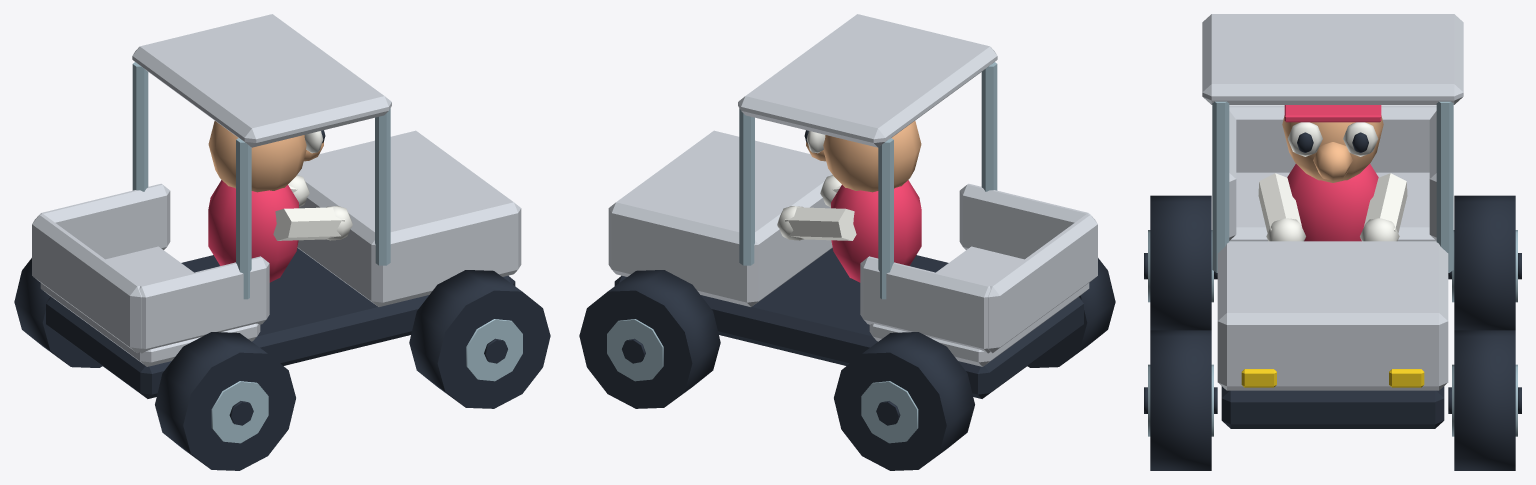
The model's file is kart_1.glb.
3 renders of one model, left to right at view 1: azimuth 30°, elevation 25°; view 2: azimuth 150°, elevation 25°; view 3: azimuth 270°, elevation 25°, orthographic. The views are drawn at different scales.
Parts seen in each view (by area): view 1: Truck hood, Cab roof, Chassis, wheel_fr, wheel_rr, Bed rail.001, Tailgate, Bed rail, Jacket, Head, Bed floor, wheel_rl (+4 smaller); view 2: Truck hood, Cab roof, Chassis, wheel_fl, wheel_rl, Bed rail, Tailgate, Bed rail.001, Jacket, Head, Bed floor, wheel_rr (+4 smaller); view 3: Truck hood, Cab roof, wheel_fl, wheel_fr, wheel_rl, wheel_rr, Chassis, Tailgate, Jacket, Bed floor, Cab pillar.003, Cab pillar (+13 smaller).
Part boxes in pixels (x1=…): Truck hood: x1=297, y1=130, x2=521, y2=306; Cab roof: x1=132, y1=14, x2=391, y2=147; Chassis: x1=46, y1=248, x2=515, y2=398; wheel_fr: x1=409, y1=270, x2=550, y2=408; wheel_rr: x1=155, y1=332, x2=295, y2=470; Bed rail.001: x1=139, y1=256, x2=269, y2=353; Tailgate: x1=32, y1=214, x2=141, y2=353; Bed rail: x1=40, y1=183, x2=170, y2=259; Jacket: x1=208, y1=180, x2=298, y2=282; Head: x1=208, y1=121, x2=306, y2=192; Bed floor: x1=40, y1=246, x2=260, y2=366; wheel_rl: x1=14, y1=258, x2=102, y2=367; Truck hood: x1=608, y1=130, x2=832, y2=306; Cab roof: x1=738, y1=14, x2=997, y2=147; Chassis: x1=614, y1=248, x2=1083, y2=398; wheel_fl: x1=579, y1=270, x2=720, y2=408; wheel_rl: x1=834, y1=332, x2=974, y2=470; Bed rail: x1=860, y1=256, x2=990, y2=353; Tailgate: x1=988, y1=214, x2=1097, y2=353; Bed rail.001: x1=959, y1=183, x2=1089, y2=259; Jacket: x1=831, y1=180, x2=921, y2=282; Head: x1=823, y1=121, x2=921, y2=192; Bed floor: x1=869, y1=246, x2=1089, y2=366; wheel_rr: x1=1027, y1=258, x2=1115, y2=367; Truck hood: x1=1217, y1=241, x2=1448, y2=390; Cab roof: x1=1202, y1=14, x2=1463, y2=104; wheel_fl: x1=1448, y1=330, x2=1521, y2=470; wheel_fr: x1=1144, y1=330, x2=1217, y2=470; wheel_rl: x1=1448, y1=195, x2=1521, y2=330; wheel_rr: x1=1144, y1=195, x2=1217, y2=330; Chassis: x1=1221, y1=386, x2=1444, y2=428; Tailgate: x1=1229, y1=105, x2=1436, y2=172; Jacket: x1=1287, y1=164, x2=1378, y2=241; Bed floor: x1=1229, y1=172, x2=1436, y2=241; Cab pillar.003: x1=1212, y1=101, x2=1229, y2=272; Cab pillar: x1=1436, y1=101, x2=1453, y2=272.
Size of the model in its own units: 3.21 by 2.42 by 2.46.
